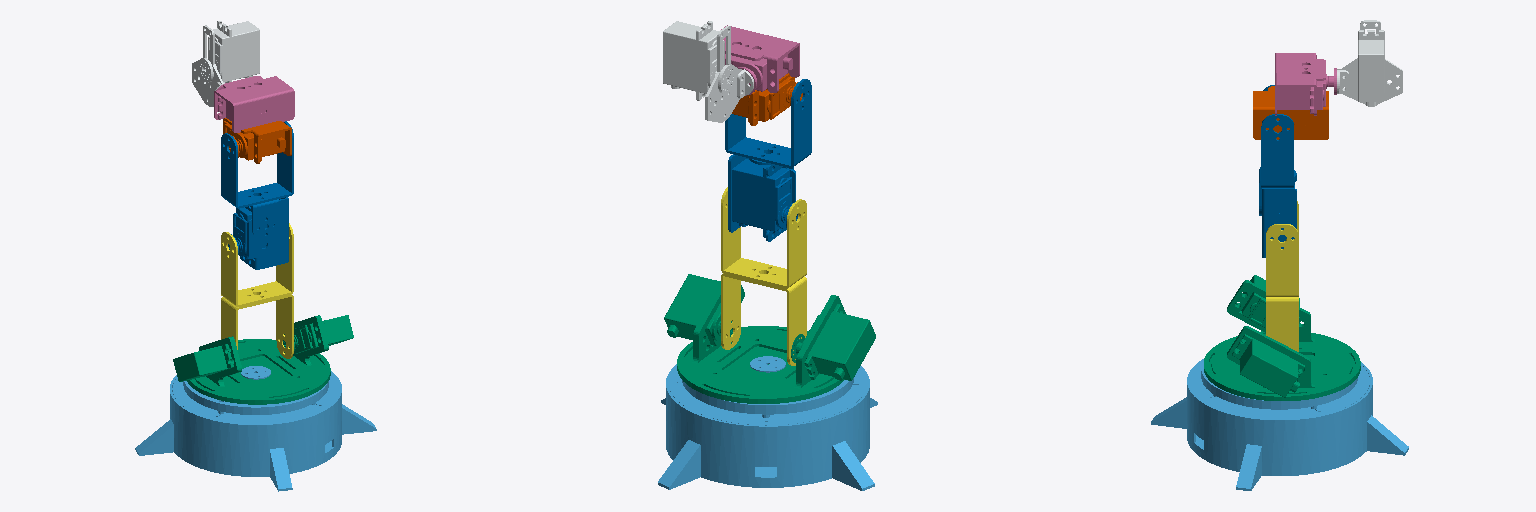
The robot description file, URDF, robot "robot_arm":
<?xml version="1.0" ?>
<!-- =================================================================================== -->
<!-- |    This document was autogenerated by xacro from robot_arm.xacro                | -->
<!-- |    EDITING THIS FILE BY HAND IS NOT RECOMMENDED                                 | -->
<!-- =================================================================================== -->
<robot name="robot_arm">
  <link name="world"/>
  <joint name="base_fixed_joint" type="fixed">
    <parent link="world"/>
    <child link="base_link"/>
    <origin rpy="0 0 0" xyz="0 0 0.2"/>
  </joint>
  <link name="base_link">
    <inertial>
      <origin rpy="0 0 0" xyz="-0.0019226671084236508 0.03127199959893212 0.003074002176362074"/>
      <mass value="0.1"/>
      <inertia ixx="0.0135" ixy="0.0" ixz="0.0" iyy="0.0135" iyz="0.0" izz="0.05"/>
    </inertial>
    <visual>
      <origin rpy="1.57 0 0" xyz="0 0 0"/>
      <geometry>
        <mesh filename="package://my_arm_description/meshes/base_link.stl" scale="0.001 0.001 0.001"/>
      </geometry>
      <material name="blue"/>
    </visual>
    <collision>
      <origin rpy="1.57 0 0" xyz="0 0 0"/>
      <geometry>
        <mesh filename="package://my_arm_description/meshes/base_link.stl" scale="0.001 0.001 0.001"/>
      </geometry>
    </collision>
  </link>
  <link name="Link1_1">
    <inertial>
      <origin rpy="0 0 0" xyz="-4.991869489348773e-06 0.01780900870871517 0.005735315172792203"/>
      <mass value="0.08948947756149551"/>
      <inertia ixx="0.000574" ixy="-1.2e-05" ixz="-2e-05" iyy="0.002344" iyz="-7.9e-05" izz="0.002106"/>
    </inertial>
    <visual>
      <origin rpy="0 0 0" xyz="0.002688 -0.06295 -0.001684"/>
      <geometry>
        <mesh filename="package://my_arm_description/meshes/Link1_1.stl" scale="0.001 0.001 0.001"/>
      </geometry>
      <material name="silver"/>
    </visual>
    <collision>
      <origin rpy="0 0 0" xyz="0.002688 -0.06295 -0.001684"/>
      <geometry>
        <mesh filename="package://my_arm_description/meshes/Link1_1.stl" scale="0.001 0.001 0.001"/>
      </geometry>
    </collision>
  </link>
  <link name="Link2_1">
    <inertial>
      <origin rpy="0 0 0" xyz="0.025500212363618904 0.050000197846483144 2.9486110807164234e-07"/>
      <mass value="0.01268747558623512"/>
      <inertia ixx="0.000111" ixy="0.0" ixz="-0.0" iyy="7.8e-05" iyz="-0.0" izz="0.000176"/>
    </inertial>
    <visual>
      <origin rpy="0 0 0" xyz="0.028738 -0.084331 -0.001684"/>
      <geometry>
        <mesh filename="package://my_arm_description/meshes/Link2_1.stl" scale="0.001 0.001 0.001"/>
      </geometry>
      <material name="silver"/>
    </visual>
    <collision>
      <origin rpy="0 0 0" xyz="0.028738 -0.084331 -0.001684"/>
      <geometry>
        <mesh filename="package://my_arm_description/meshes/Link2_1.stl" scale="0.001 0.001 0.001"/>
      </geometry>
    </collision>
  </link>
  <link name="Link3_1">
    <inertial>
      <origin rpy="0 0 0" xyz="0.027076002474259824 0.019409440802769573 0.002368883434935072"/>
      <mass value="0.03877413615001566"/>
      <inertia ixx="0.00025" ixy="1e-05" ixz="0.0" iyy="0.000103" iyz="-7e-06" izz="0.00031"/>
    </inertial>
    <visual>
      <origin rpy="0 0 0" xyz="0.028738 -0.184331 -0.001684"/>
      <geometry>
        <mesh filename="package://my_arm_description/meshes/Link3_1.stl" scale="0.001 0.001 0.001"/>
      </geometry>
      <material name="silver"/>
    </visual>
    <collision>
      <origin rpy="0 0 0" xyz="0.028738 -0.184331 -0.001684"/>
      <geometry>
        <mesh filename="package://my_arm_description/meshes/Link3_1.stl" scale="0.001 0.001 0.001"/>
      </geometry>
    </collision>
  </link>
  <link name="Link4_1">
    <inertial>
      <origin rpy="0 0 0" xyz="0.02792782389157162 0.0015768795382742895 -0.009656526599892783"/>
      <mass value="0.030477625056794005"/>
      <inertia ixx="6.9e-05" ixy="-1e-06" ixz="2e-06" iyy="9.7e-05" iyz="0.0" izz="5.9e-05"/>
    </inertial>
    <visual>
      <origin rpy="0 0 0" xyz="0.030288 -0.27563 -0.005184"/>
      <geometry>
        <mesh filename="package://my_arm_description/meshes/Link4_1.stl" scale="0.001 0.001 0.001"/>
      </geometry>
      <material name="silver"/>
    </visual>
    <collision>
      <origin rpy="0 0 0" xyz="0.030288 -0.27563 -0.005184"/>
      <geometry>
        <mesh filename="package://my_arm_description/meshes/Link4_1.stl" scale="0.001 0.001 0.001"/>
      </geometry>
    </collision>
  </link>
  <link name="Link5_1">
    <inertial>
      <origin rpy="0 0 0" xyz="0.02792782389157162 0.0015768795382742895 -0.009656526599892783"/>
      <mass value="0.030477625056794005"/>
      <inertia ixx="6.9e-05" ixy="-1e-06" ixz="2e-06" iyy="9.7e-05" iyz="0.0" izz="5.9e-05"/>
    </inertial>
    <visual>
      <origin rpy="0 0 0" xyz="0.030288 -0.27563 -0.005184"/>
      <geometry>
        <mesh filename="package://my_arm_description/meshes/Link4_1.stl" scale="0.001 0.001 0.001"/>
      </geometry>
      <material name="silver"/>
    </visual>
    <collision>
      <origin rpy="0 0 0" xyz="0.030288 -0.27563 -0.005184"/>
      <geometry>
        <mesh filename="package://my_arm_description/meshes/Link4_1.stl" scale="0.001 0.001 0.001"/>
      </geometry>
    </collision>
  </link>
  <joint name="joint_1" type="revolute">
    <origin rpy="1.57 0 0" xyz="0 0 0.06"/>
    <parent link="base_link"/>
    <child link="Link1_1"/>
    <axis xyz="0 1 0"/>
    <limit effort="5.0" lower="-3.14" upper="3.14" velocity="1.57"/>
  </joint>
  <joint name="joint_2" type="revolute">
    <origin rpy="0 0 0" xyz="-0.02605 0.021381 0.0"/>
    <parent link="Link1_1"/>
    <child link="Link2_1"/>
    <axis xyz="-1 0 0"/>
    <limit effort="5.0" lower="-1.57" upper="1.57" velocity="1.57"/>
  </joint>
  <joint name="joint_3" type="revolute">
    <origin rpy="0 0 0" xyz="0.0 0.1 0.0"/>
    <parent link="Link2_1"/>
    <child link="Link3_1"/>
    <axis xyz="-1 0 0"/>
    <limit effort="5.0" lower="-2.2" upper="2.2" velocity="1.57"/>
  </joint>
  <joint name="joint_4" type="revolute">
    <origin rpy="0 0 0" xyz="-0.00155 0.091299 0.0035"/>
    <parent link="Link3_1"/>
    <child link="Link4_1"/>
    <axis xyz="-1 0 0"/>
    <limit effort="5.0" lower="-3.14" upper="1.2" velocity="1.57"/>
  </joint>
  <joint name="joint_5_fixed" type="fixed">
    <origin rpy="0 -1.57 0" xyz="0.02 0.025 -0.045"/>
    <parent link="Link4_1"/>
    <child link="Link5_1"/>
  </joint>
  
  <!-- gripper -->
  <joint name="joint_5" type="revolute">
    <origin rpy="1.57 0 -1.57" xyz="0 0 0"/>
    <parent link="Link5_1"/>
    <child link="grip_base_link"/>
    <axis xyz="0 0 1"/>
    <limit effort="5.0" lower="-3.14" upper="3.14" velocity="1.57"/>
  </joint>
  <link name="grip_base_link">
    <inertial>
      <origin rpy="0 0 0" xyz="-0.020531 -0.021072 0.02563"/>
      <mass value="0.00367"/>
      <inertia ixx="5.4785E-06" ixy="-5.5445E-08" ixz="-8.0352E-09" iyy="7.0866E-06" iyz="-7.7291E-13" izz="9.4579E-06"/>
    </inertial>
    <visual>
      <origin rpy="0 0 0" xyz="0 0 0"/>
      <geometry>
        <mesh filename="package://my_arm_description/meshes/gripper_meshes/grip_base_link.STL"/>
      </geometry>
      <material name="">
        <color rgba="0.89804 0.92157 0.92941 1"/>
      </material>
    </visual>
    <collision>
      <origin rpy="0 0 0" xyz="0 0 0"/>
      <geometry>
        <mesh filename="package://my_arm_description/meshes/gripper_meshes/grip_base_link.STL"/>
      </geometry>
    </collision>
  </link>
  
  <!-- TCP -->
  <link name="tool_link"/>
  <joint name="tool_joint" type="fixed">
    <origin rpy="0 0 0" xyz="0 0 0.1"/>
    <parent link="grip_base_link"/>
    <child link="tool_link"/>
  </joint>
</robot>

--- What the picture shows (computed from the rendered views, not written in the file) ---
3 views of the same robot in one strip: view 1: azimuth 30°, elevation 25°; view 2: azimuth 150°, elevation 25°; view 3: azimuth 270°, elevation 25° (orthographic).
Robot: robot_arm — 9 links, 8 joints (5 revolute, 3 fixed); root link world; default pose: all joints at 0.
Links seen in each view (by area): view 1: base_link, Link1_1, Link3_1, Link2_1, grip_base_link, Link5_1, Link4_1; view 2: base_link, Link1_1, Link3_1, Link2_1, grip_base_link, Link5_1, Link4_1; view 3: base_link, Link1_1, Link3_1, Link2_1, grip_base_link, Link5_1, Link4_1.
Link boxes in pixels (bbox=[...]): base_link: bbox=[135, 366, 376, 491]; Link1_1: bbox=[173, 315, 353, 404]; Link3_1: bbox=[221, 121, 293, 269]; Link2_1: bbox=[221, 223, 293, 358]; grip_base_link: bbox=[192, 21, 259, 106]; Link5_1: bbox=[214, 76, 294, 132]; Link4_1: bbox=[223, 118, 291, 163]; base_link: bbox=[658, 356, 877, 490]; Link1_1: bbox=[664, 274, 875, 403]; Link3_1: bbox=[725, 79, 811, 241]; Link2_1: bbox=[721, 187, 806, 365]; grip_base_link: bbox=[663, 21, 753, 122]; Link5_1: bbox=[721, 25, 799, 95]; Link4_1: bbox=[732, 73, 802, 125]; base_link: bbox=[1151, 359, 1408, 490]; Link1_1: bbox=[1204, 275, 1360, 400]; Link3_1: bbox=[1259, 85, 1296, 257]; Link2_1: bbox=[1266, 201, 1298, 351]; grip_base_link: bbox=[1337, 20, 1402, 106]; Link5_1: bbox=[1275, 53, 1336, 115]; Link4_1: bbox=[1253, 86, 1328, 139].
Bounding box of the posed robot: 0.1969 × 0.1969 × 0.3478 m (x, y, z).
7 mesh visuals loaded from 6 distinct referenced files (6 binary STL).